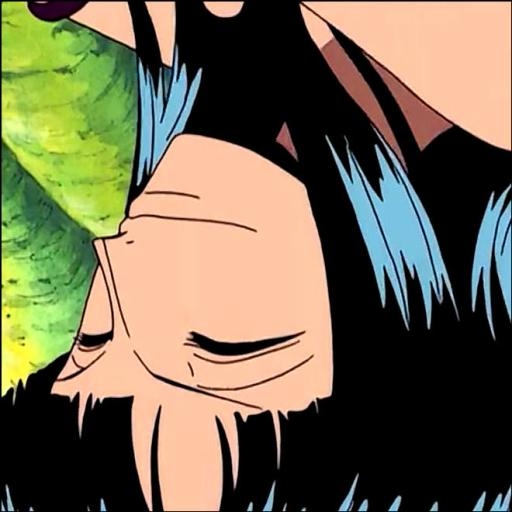NicoRobin: (2, 3, 511, 504)
